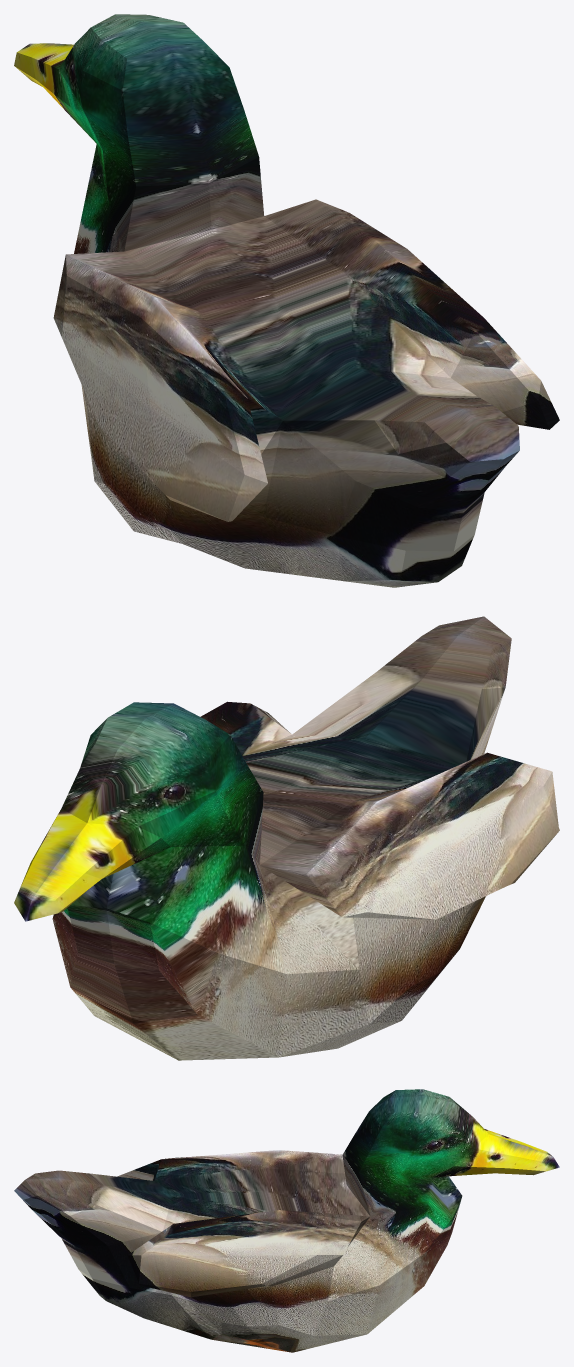
Rendered from duck.fbx.
3 views of the same model, one above another, from view 1: azimuth 30°, elevation 25°; view 2: azimuth 150°, elevation 25°; view 3: azimuth 270°, elevation 25° (orthographic). The views are drawn at different scales.
Parts seen in each view (by area): view 1: Cube; view 2: Cube; view 3: Cube.
Boxes of the visible parts, <box> form: Cube: <box>14,14,559,587</box>; Cube: <box>14,616,559,1060</box>; Cube: <box>14,1089,559,1352</box>.
Bounding box in the file's own units: 182 × 207 × 431.
